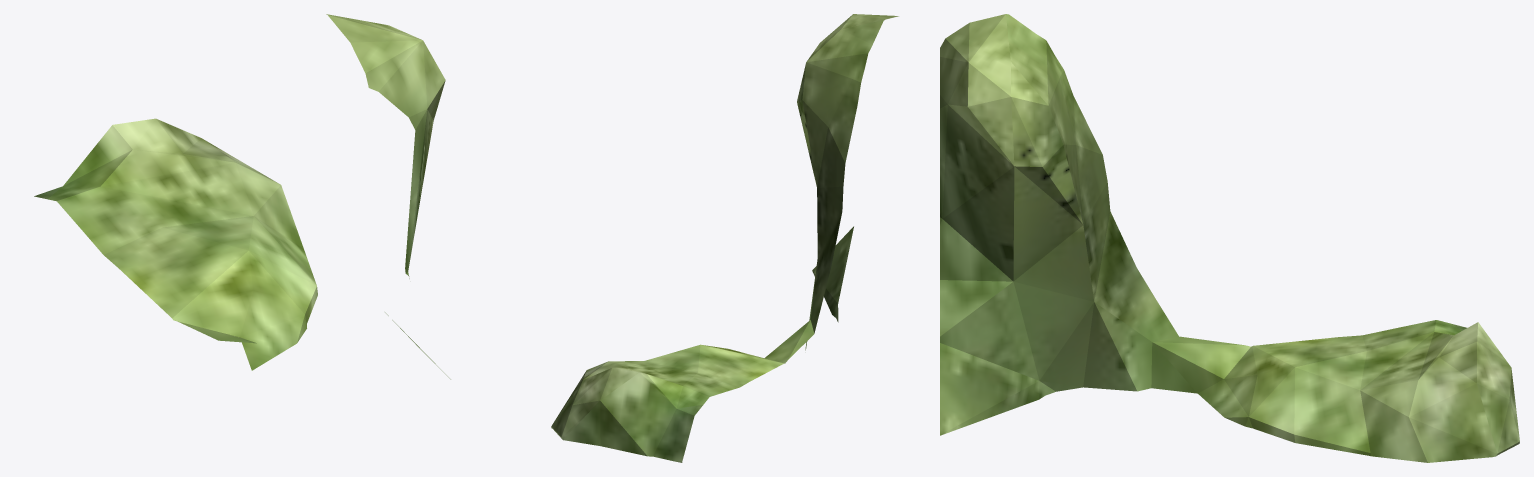
The picture shows the model from 3 angles, left to right: view 1: azimuth 30°, elevation 25°; view 2: azimuth 150°, elevation 25°; view 3: azimuth 270°, elevation 25°; orthographic projection. The views are drawn at different scales.
Size of the model in its own units: 0.4434 by 0.862 by 1.25.
1 material, 1 textured.
